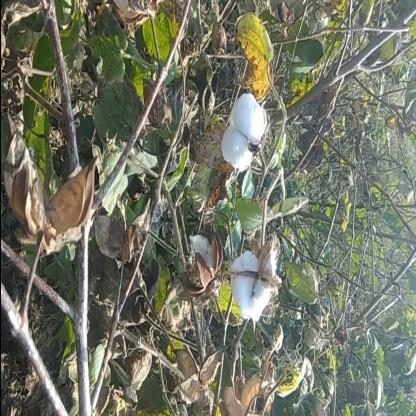cotton_ready: (218, 201, 286, 338), (212, 82, 276, 180)
